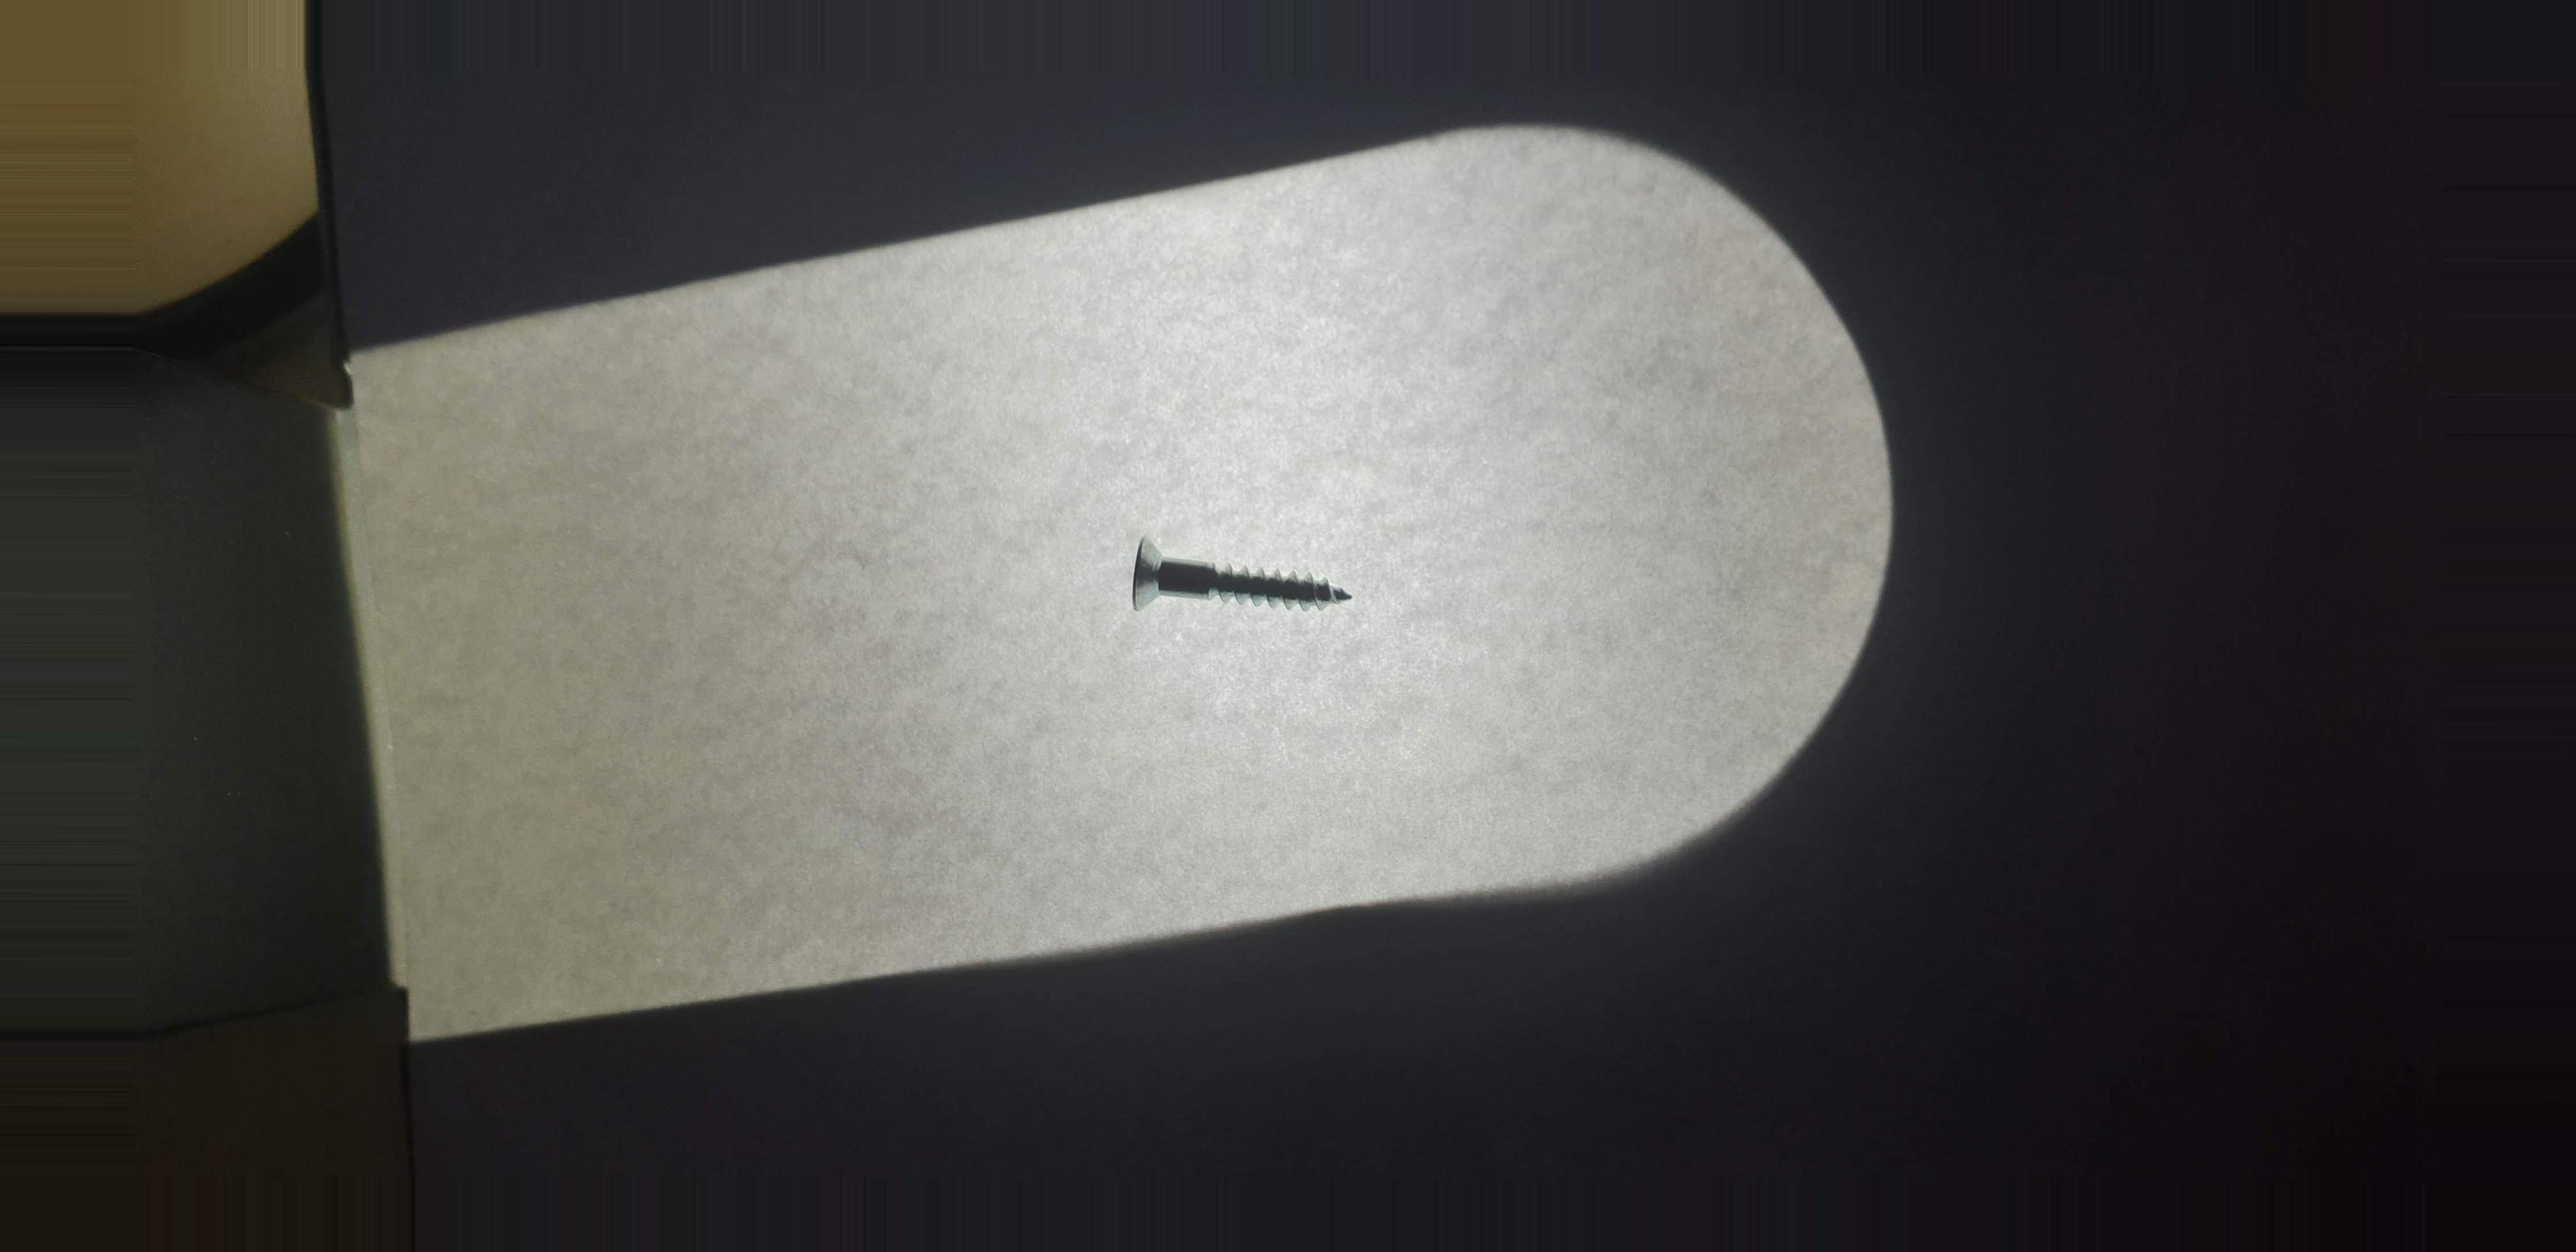S005: (1097, 519, 1390, 649)
